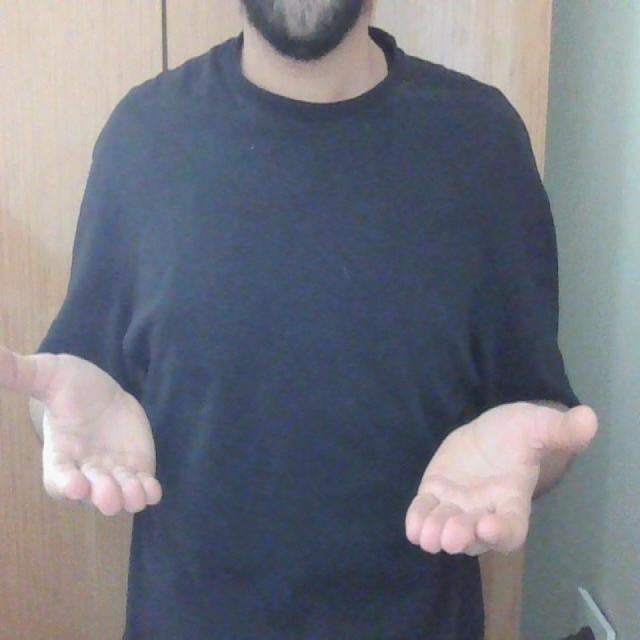Evet: (0, 338, 604, 561)
